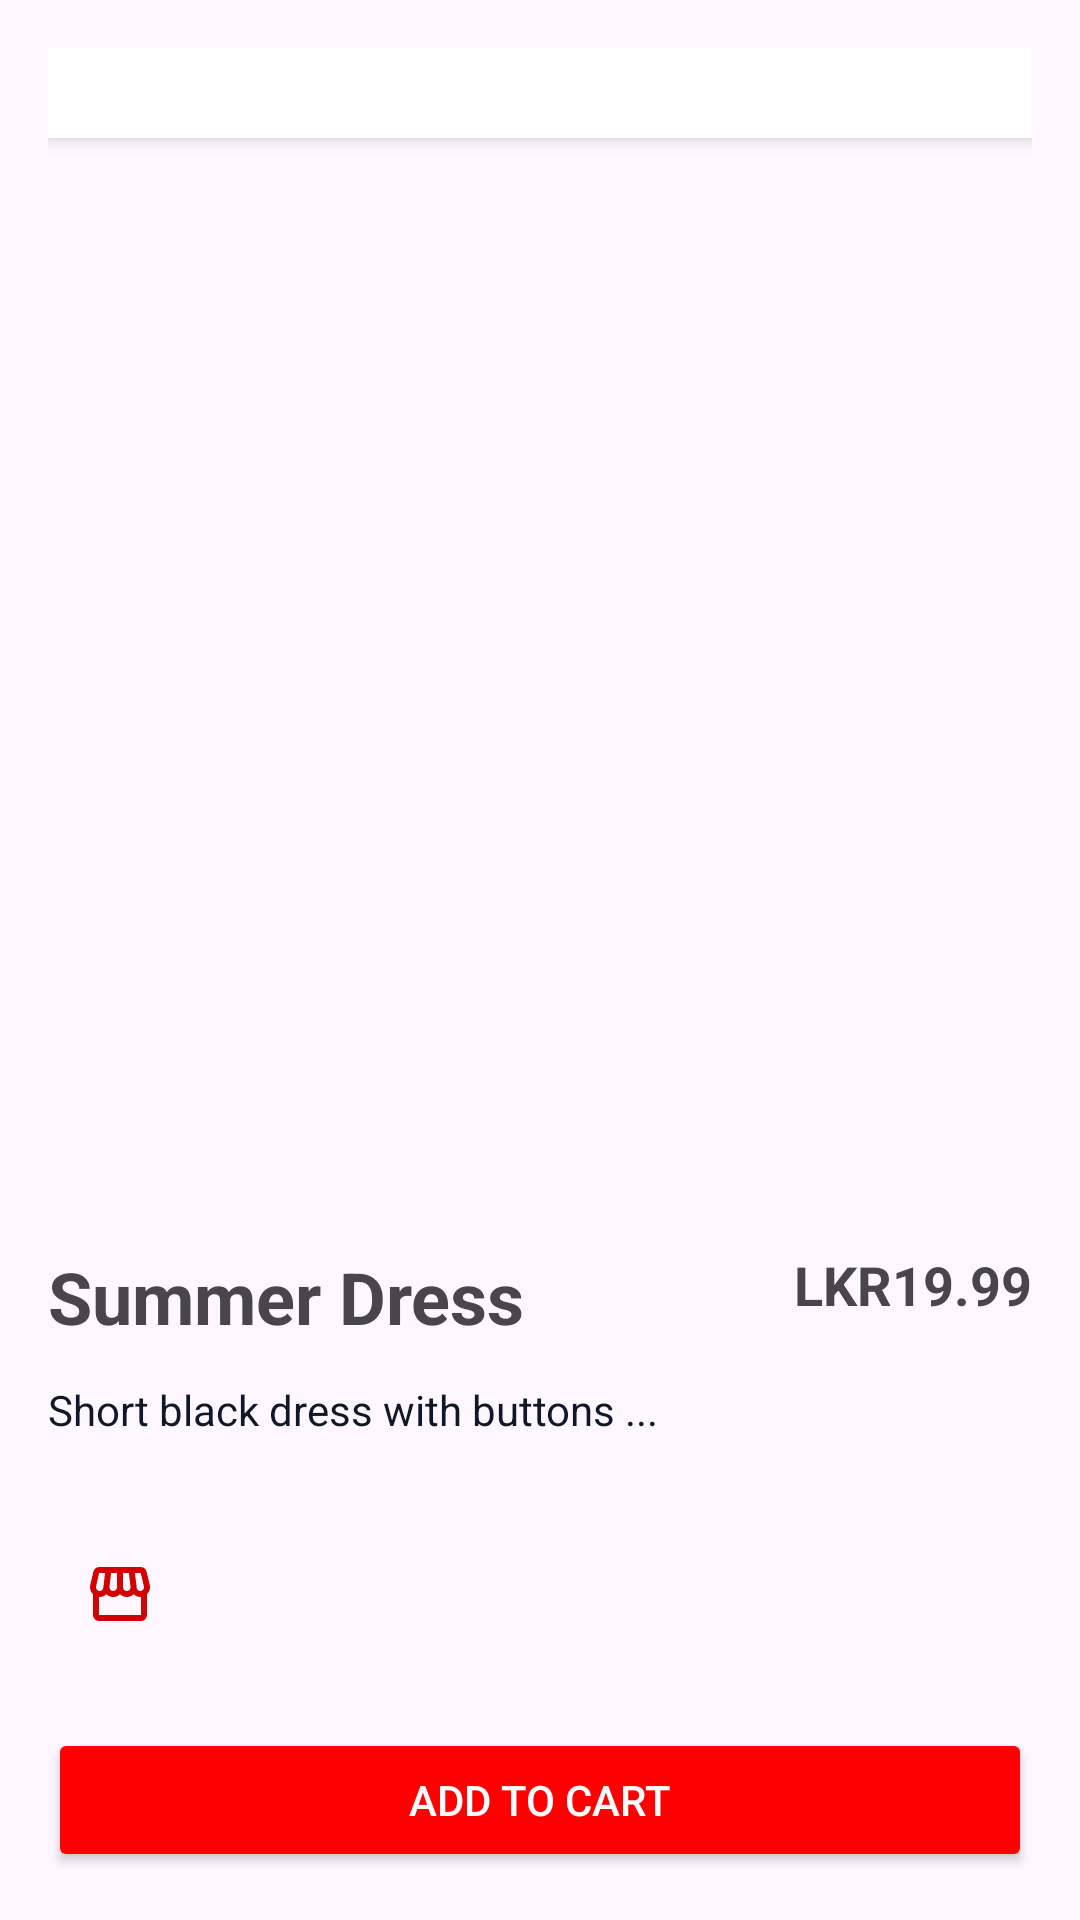

Icons on this 1080px×1920px Android screen, each with the point to tap as [x,y]:
store: [120,1594]
